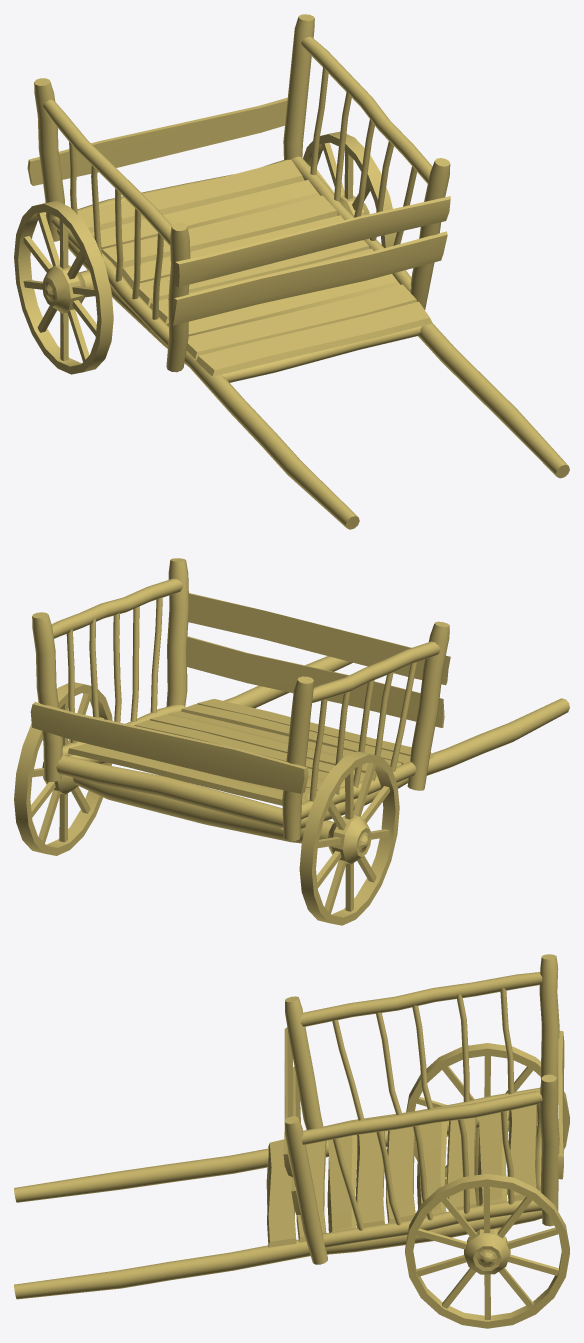
The model's file is CartLowFBX.FBX.
3 renders of one model, top to bottom at view 1: azimuth 30°, elevation 25°; view 2: azimuth 150°, elevation 25°; view 3: azimuth 270°, elevation 25°, orthographic. The views are drawn at different scales.
Parts seen in each view (by area): view 1: CartLow; view 2: CartLow; view 3: CartLow.
Part boxes in pixels (x1,y1,x2,y2): CartLow: (14, 14, 569, 529); CartLow: (14, 558, 569, 925); CartLow: (14, 954, 569, 1328).
Size of the model in its own units: 147 by 114 by 235.
